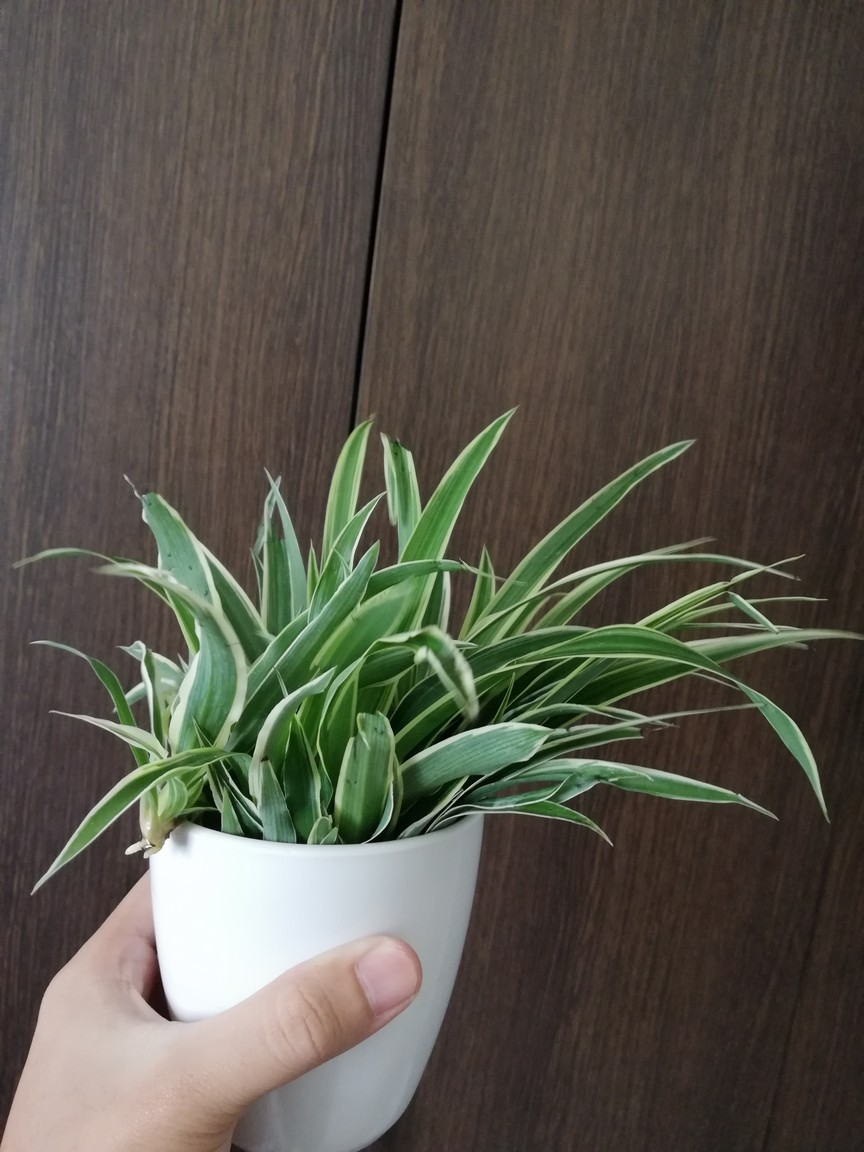daun: (546, 436, 702, 538), (26, 765, 128, 906), (423, 400, 522, 538), (659, 766, 783, 828), (765, 713, 833, 822), (26, 628, 117, 698), (46, 706, 159, 757), (315, 404, 382, 486), (659, 551, 803, 584), (537, 800, 614, 853), (339, 484, 398, 547), (333, 485, 391, 539), (460, 541, 498, 623), (711, 628, 864, 647), (345, 540, 385, 610), (260, 466, 296, 541), (212, 781, 248, 845), (303, 801, 346, 854), (245, 544, 273, 586), (329, 539, 358, 579), (304, 532, 321, 597), (747, 594, 827, 606), (188, 714, 215, 748), (176, 650, 191, 672)
